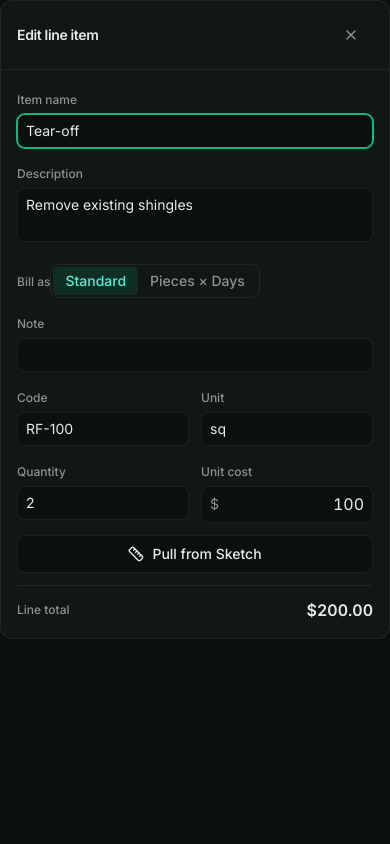
Test: LineItemEditorPanel — equipment pricing (#682) › Sketch source (#861) › previews the chosen category's count for an object_count pull (#867)
Click the button with test id "sketch-pull-button" at [195, 554], box [17,535,373,573]
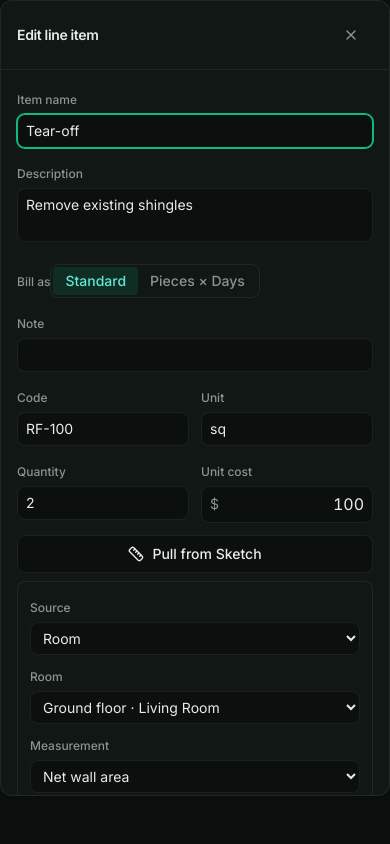
expect the dropdown with test id "sketch-picker-kind" is shown: met
Select "Object count" in the dropdown with test id "sketch-picker-kind" at [195, 776], box [30,760,360,793]
(page scrolled)
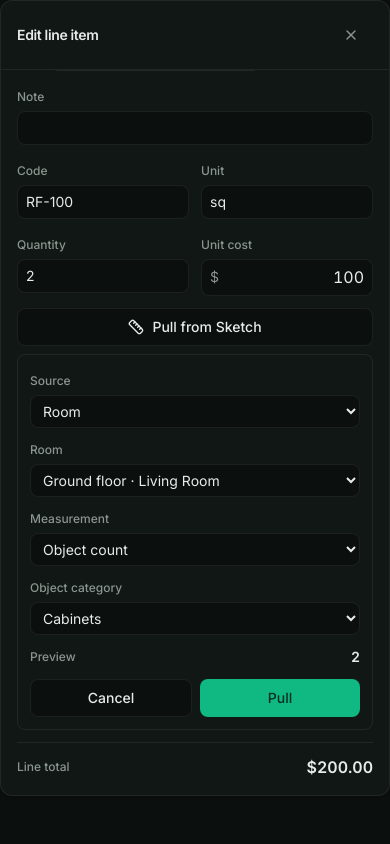
Select "Cabinets" in the dropdown with test id "sketch-picker-object-category" at [195, 618], box [30,602,360,635]
expect the text with test id "sketch-picker-preview" reads "2": met, box [351,648,360,665]
Retarget to Sink — one placed.
Select "Sink" in the dropdown with test id "sketch-picker-object-category" at [195, 618], box [30,602,360,635]
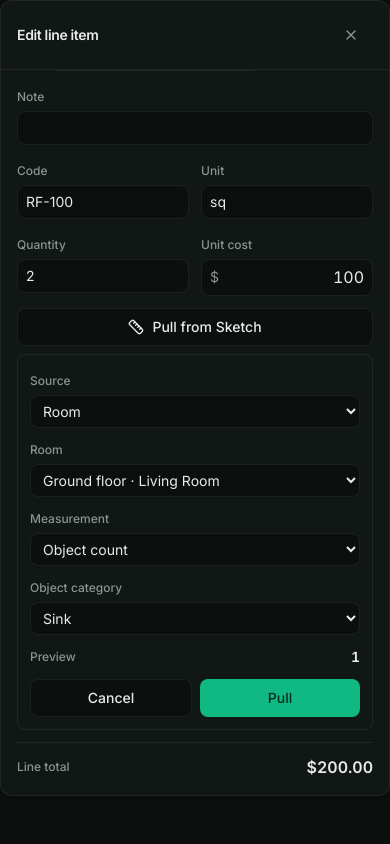
expect the text with test id "sketch-picker-preview" reads "1": met, box [351,648,360,665]
